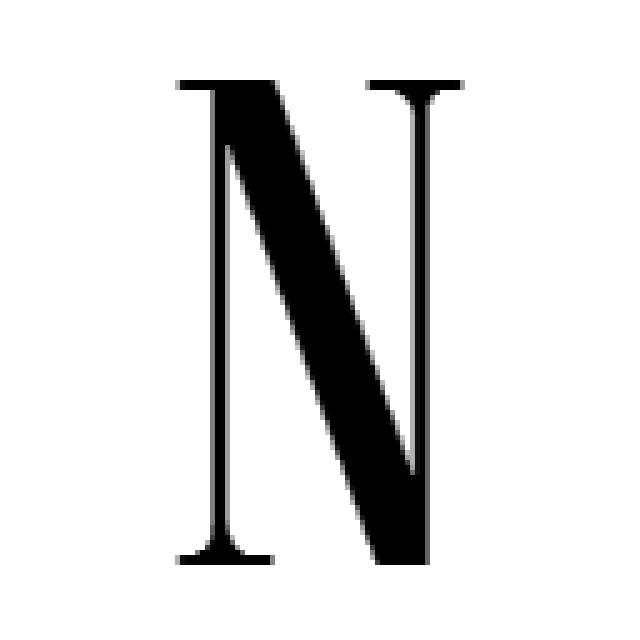N: (160, 65, 470, 570)
